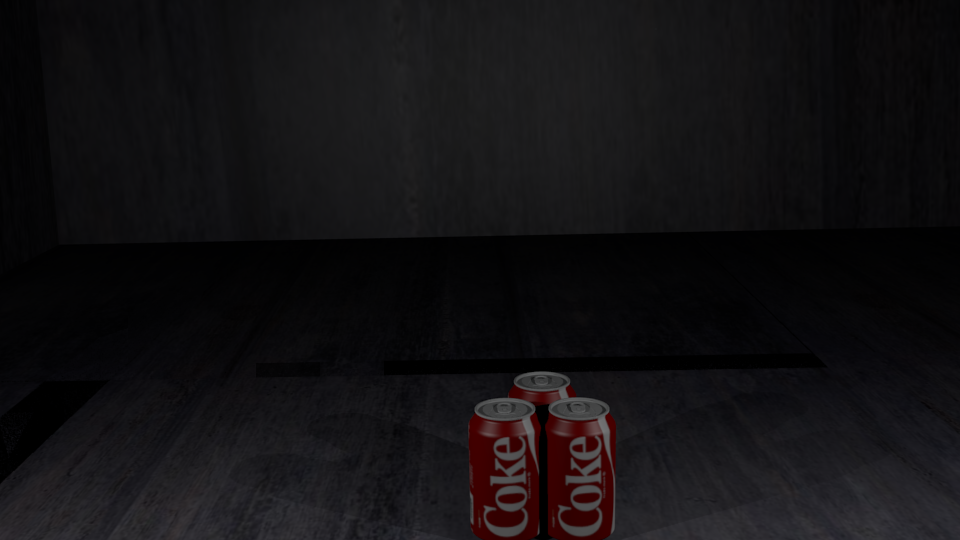cola_can: (469, 398, 541, 539), (542, 398, 615, 537), (508, 372, 575, 503)
